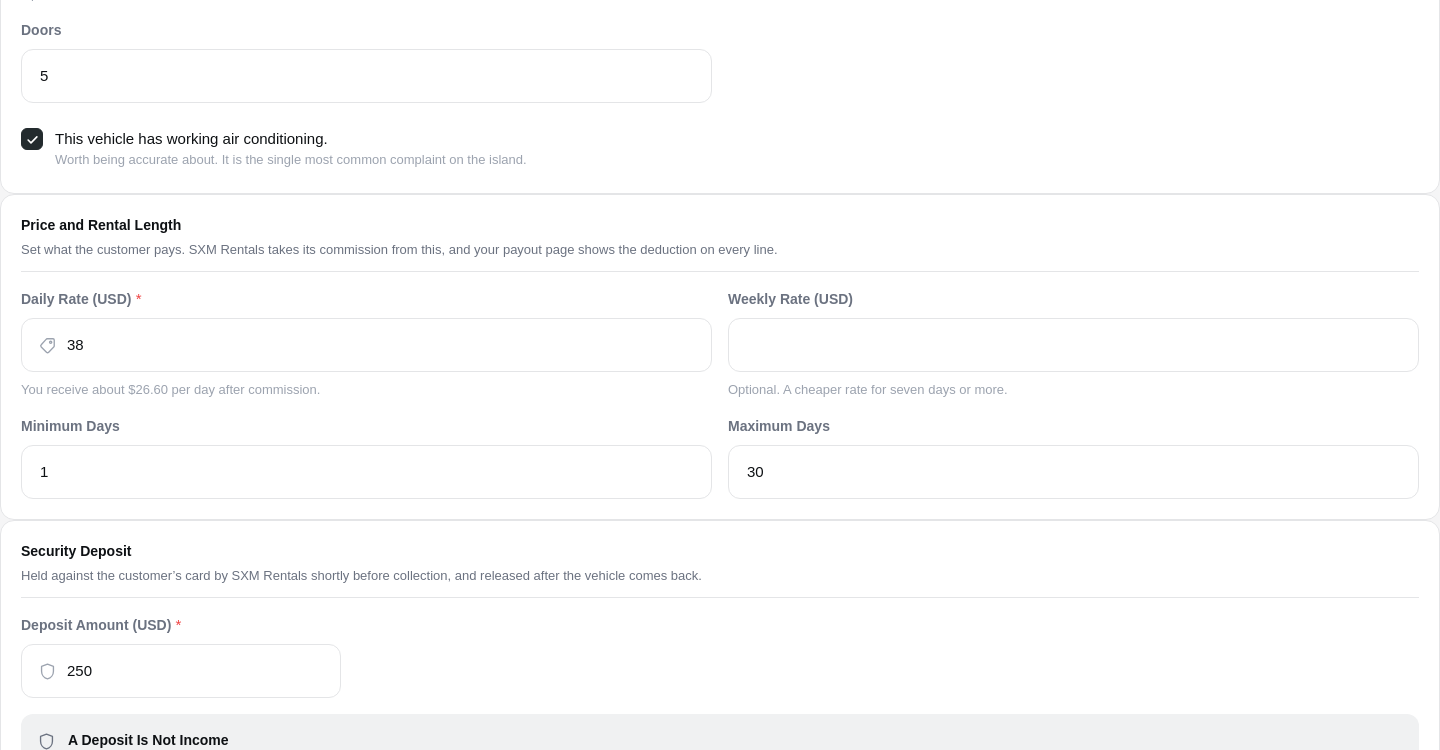
it: editing a car › offers only what the backend will change, and sends only that
(page scrolled)
Step 1. Replace the text in the number field labelled "Daily Rate (USD) *" with "42" → (380, 345), box [65,322,695,368]
(page scrolled)
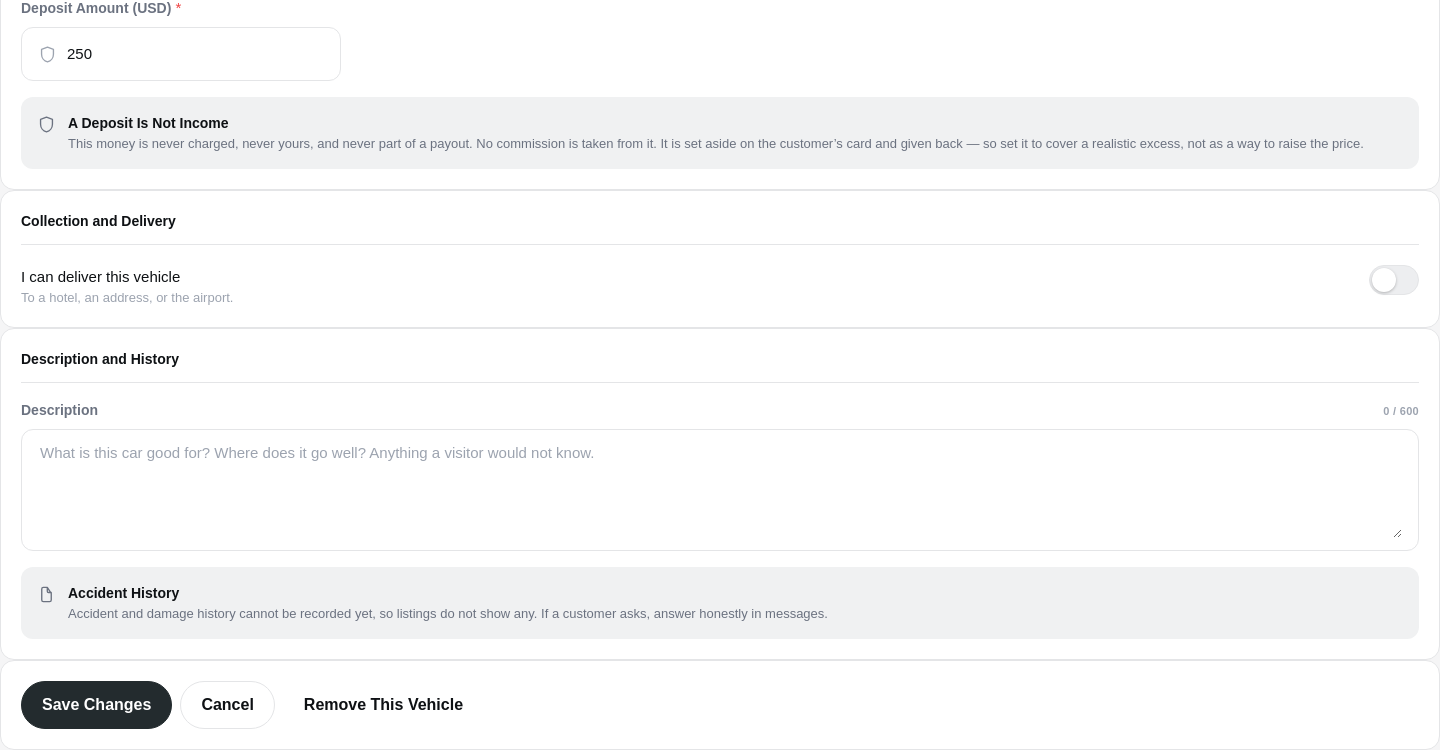
Step 2. Click the button "Save Changes" → (97, 705), box [21,681,172,729]
(page scrolled)
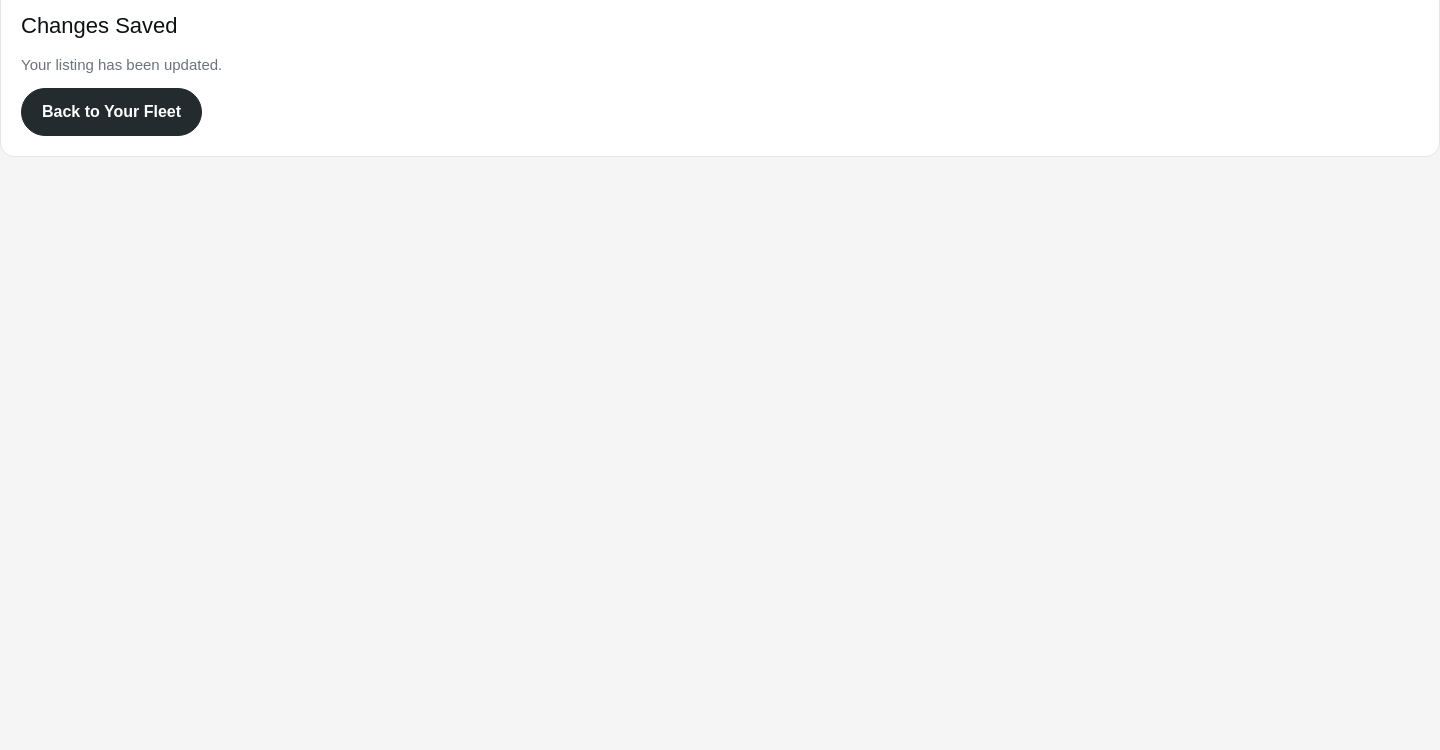
Expected: the heading "Changes Saved" is shown, [21,13,178,38]
